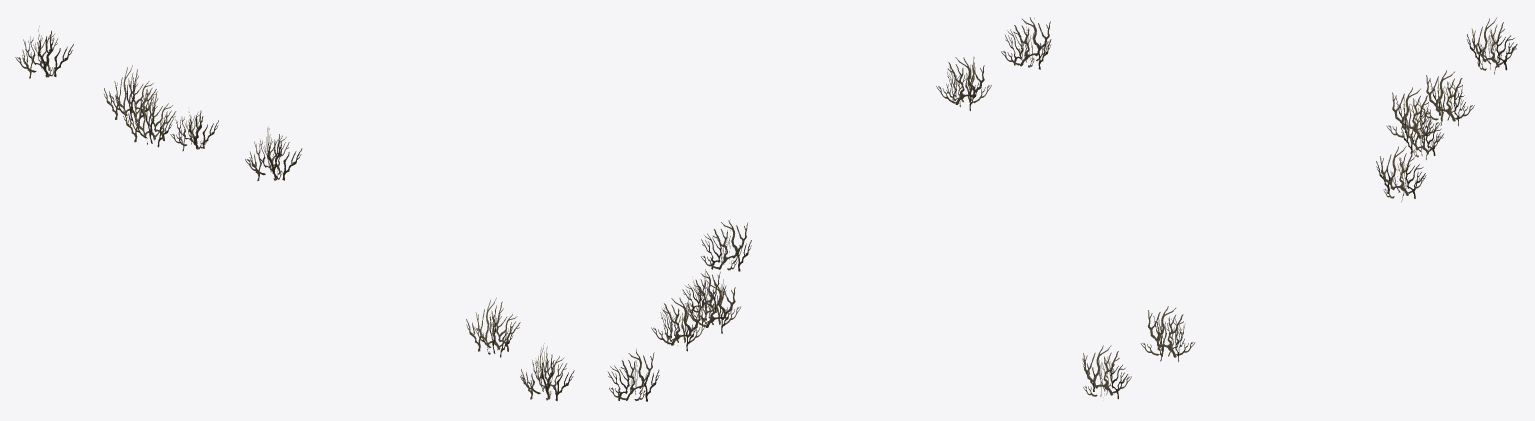
Rendered from Area_15_7.fbx.
3 renders of one model, left to right at view 1: azimuth 30°, elevation 25°; view 2: azimuth 150°, elevation 25°; view 3: azimuth 330°, elevation 25°, orthographic. The views are drawn at different scales.
Parts seen in each view (by area): view 1: Area_15_7; view 2: Area_15_7; view 3: Area_15_7.
Part boxes in pixels (x1,y1,x2,y2): Area_15_7: (15,26,574,401); Area_15_7: (607,17,1051,401); Area_15_7: (1082,17,1517,399).
Size of the model in its own units: 621 by 280 by 4478.
Materials: 1 (1 with a texture image).
